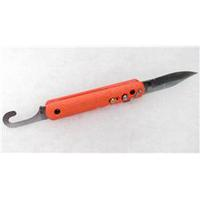knife: (8, 70, 200, 109)
